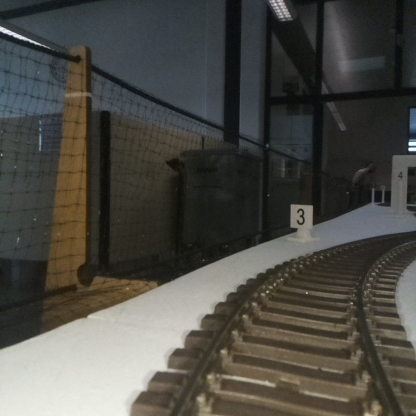white-stop-3: (290, 205, 312, 241)
